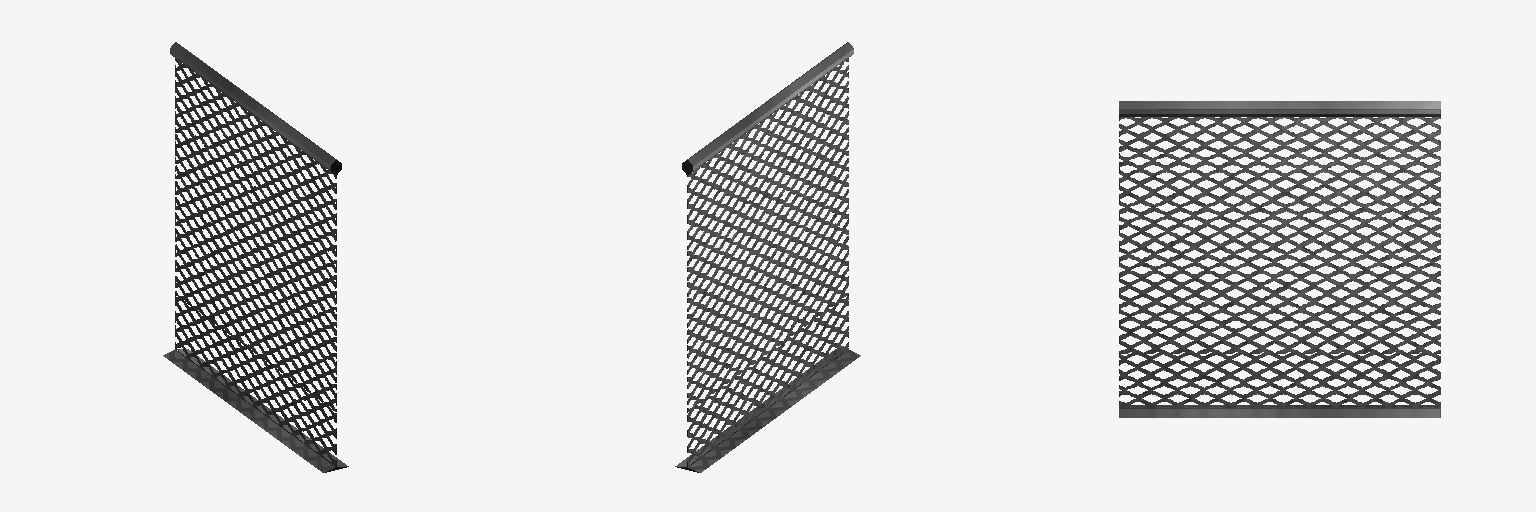
3 renders of one model, left to right at view 1: azimuth 30°, elevation 25°; view 2: azimuth 150°, elevation 25°; view 3: azimuth 270°, elevation 25°, orthographic.
Parts seen in each view (by area): view 1: Cube; view 2: Cube; view 3: Cube.
Part boxes in pixels (x1,y1,x2,y2): Cube: (163, 42, 348, 472); Cube: (675, 42, 860, 472); Cube: (1119, 101, 1440, 417).
Size of the model in its own units: 0.1872 by 2.13 by 2.
Materials: 1 (1 with a texture image).